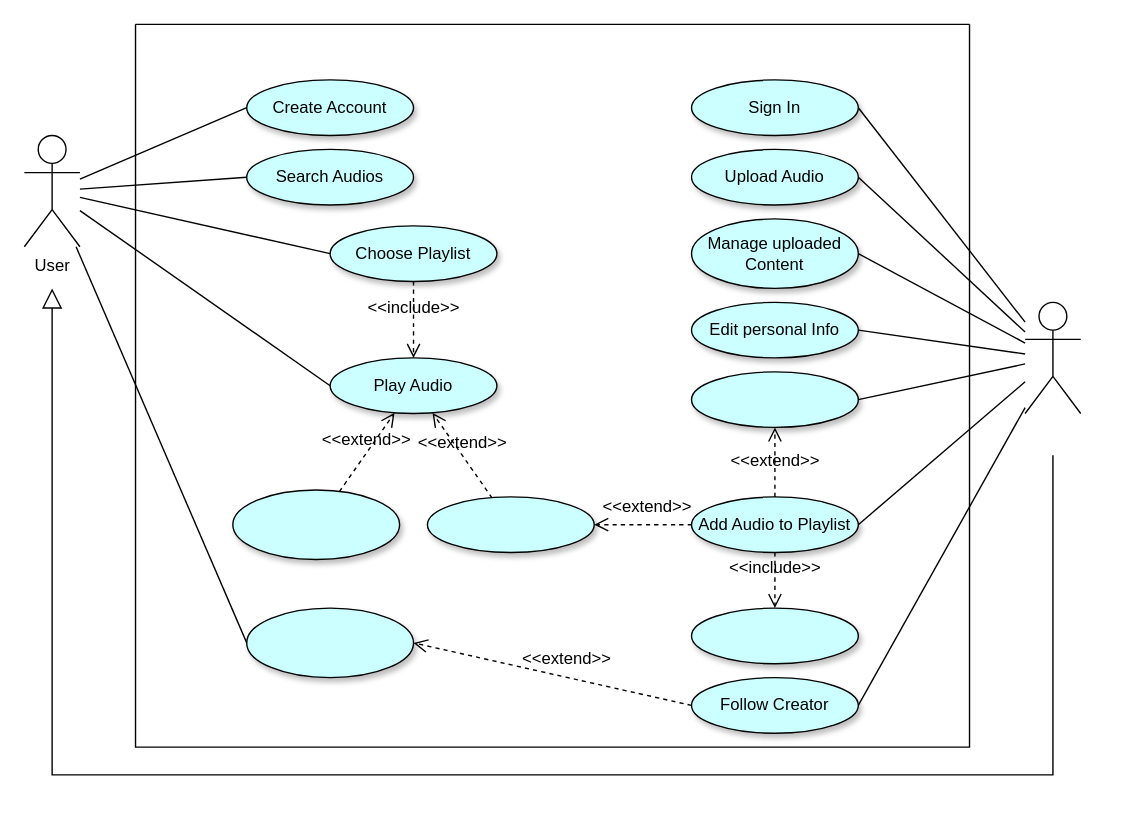
The diagram is 1137 pixels wide and 819 high, and some of its shapes have lost their labels. Each missing label, with the centre of its shape:
Create Playlist: point (776, 401)
Registered User: point (1052, 357)
Select Audios: point (776, 637)
Skip/Reverse time: point (317, 526)
View a creator's page: point (331, 644)
View Audio Info: point (511, 526)
